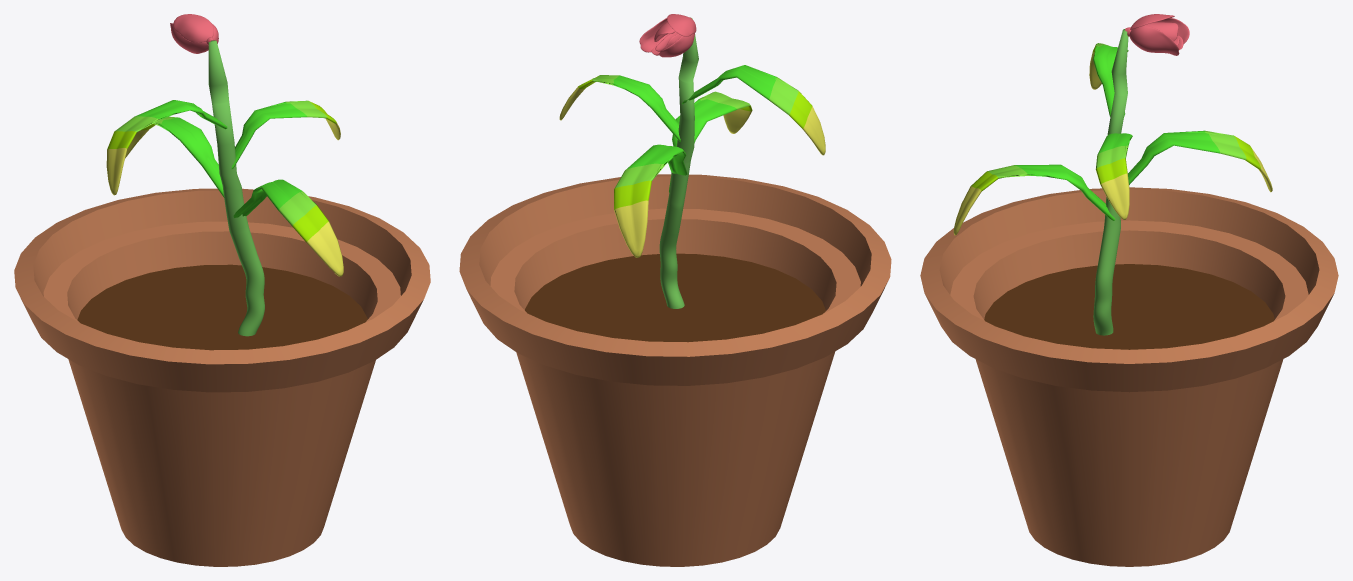
File: dyingFlower.fbx
3 renders of one model, left to right at view 1: azimuth 30°, elevation 25°; view 2: azimuth 150°, elevation 25°; view 3: azimuth 270°, elevation 25°, orthographic. The views are drawn at different scales.
Visible parts, largest first — view 1: Plant Pot, Cylinder.001, Plane.001, Plane.002, Plane.003, Plane.004, node_id30; view 2: Plant Pot, Cylinder.001, Plane.003, Plane.002, node_id30, Plane.001, Plane.004; view 3: Plant Pot, Cylinder.001, Plane.003, Plane.001, Plane.004, node_id30, Plane.002.
Part boxes in pixels (x1,y1,x2,y2): Plant Pot: (14,188,430,566); Cylinder.001: (208,40,264,336); Plane.001: (233,179,343,276); Plane.002: (106,100,227,195); Plane.003: (125,116,224,197); Plane.004: (231,100,340,168); node_id30: (170,14,218,53); Plant Pot: (459,174,891,566); Cylinder.001: (659,17,698,308); Plane.003: (614,144,687,257); Plane.002: (682,65,825,155); node_id30: (639,14,696,57); Plane.001: (669,91,752,192); Plane.004: (559,75,680,142); Plant Pot: (920,187,1338,566); Cylinder.001: (1093,29,1128,335); Plane.003: (1128,130,1272,192); Plane.001: (953,164,1115,235); Plane.004: (1095,133,1132,219); node_id30: (1125,14,1189,55); Plane.002: (1089,43,1128,119).
Bounding box in the file's own units: 535 × 712 × 535.
